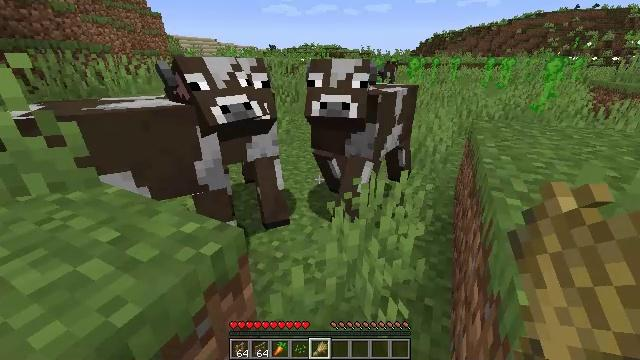cow: (0, 58, 291, 224), (310, 60, 417, 189), (376, 61, 397, 83)
